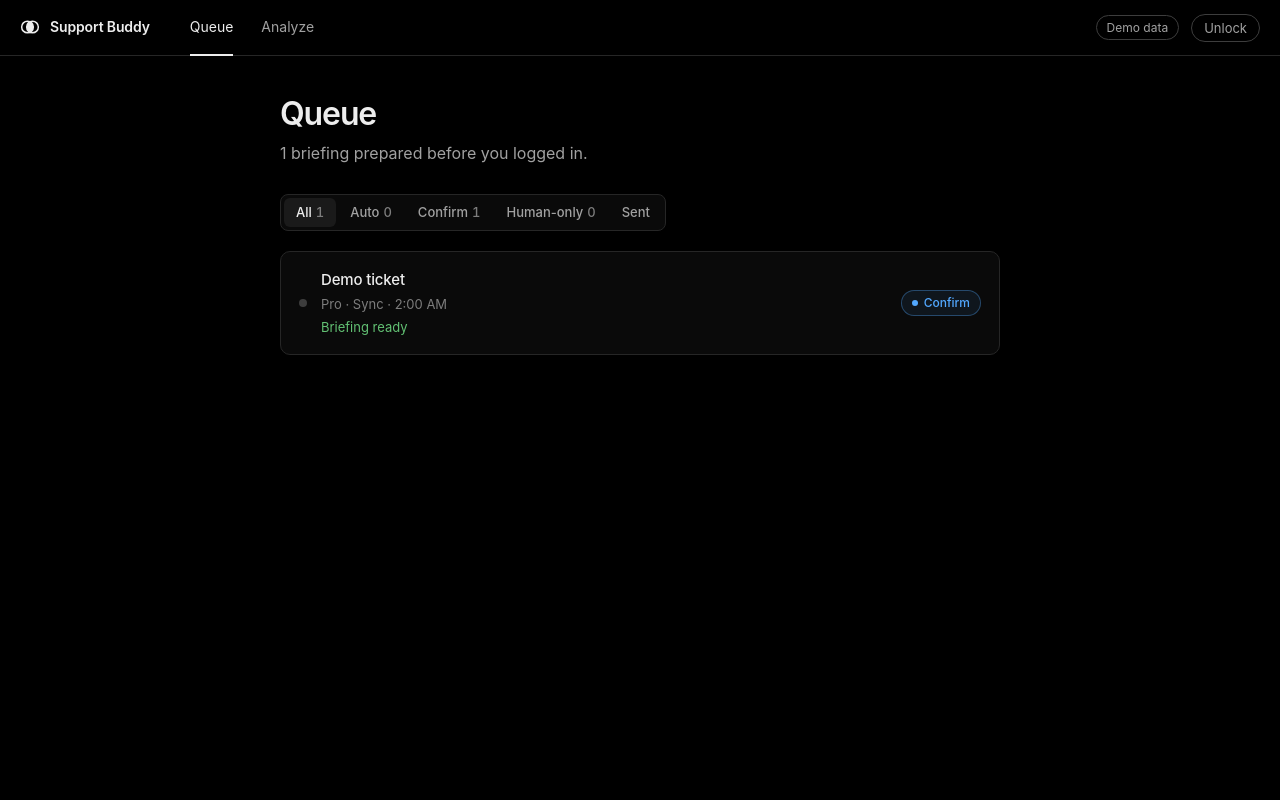
Test: unlocking live data › switches to live data when the right key is entered
Click the button "Unlock": (1226, 28) [1191,14,1260,42]
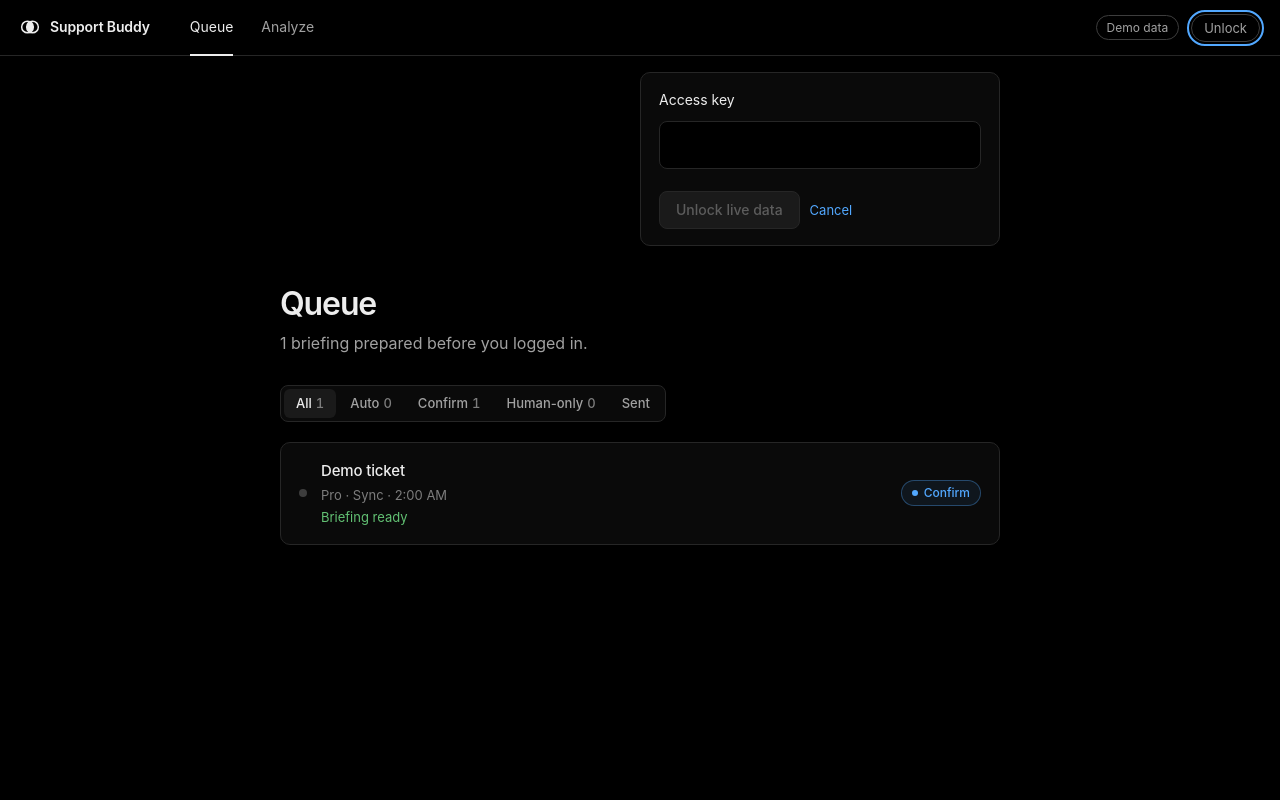
In the password field labelled "Access key": (820, 145) [659,121,981,169], type "good"
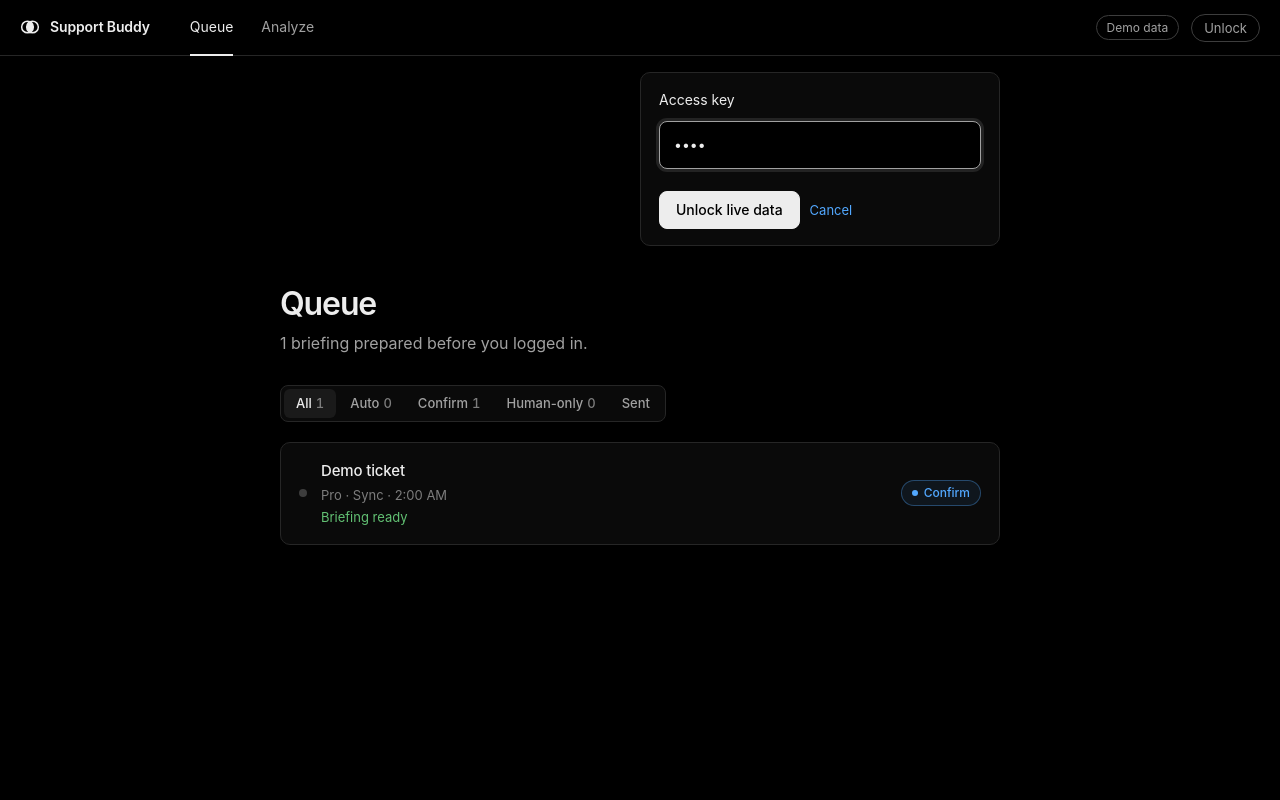
Click the button "Unlock live data": (729, 210) [659,191,800,230]
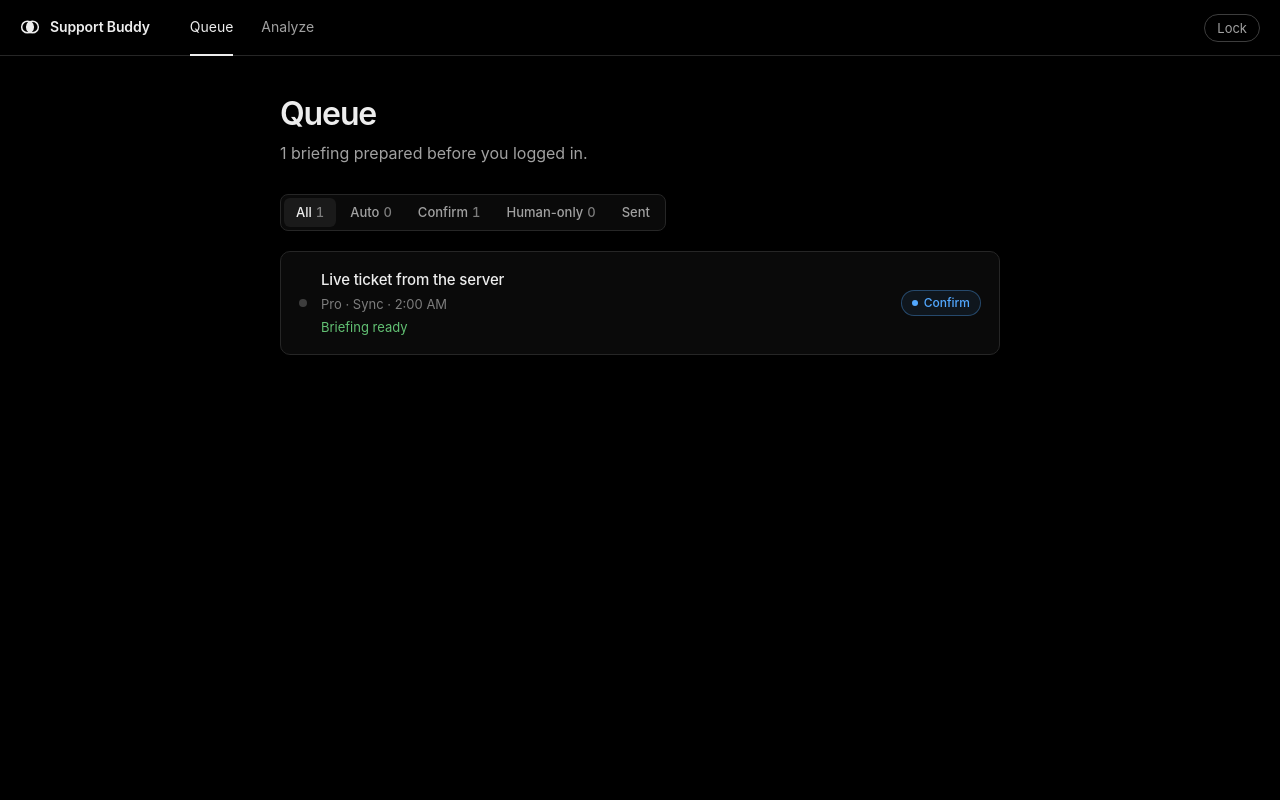
Now the heading "Live ticket from the server" is shown, box [321,270,504,289]
Now the text "Demo data" is gone
Now the button "Lock" is shown, box [1204,14,1260,42]
